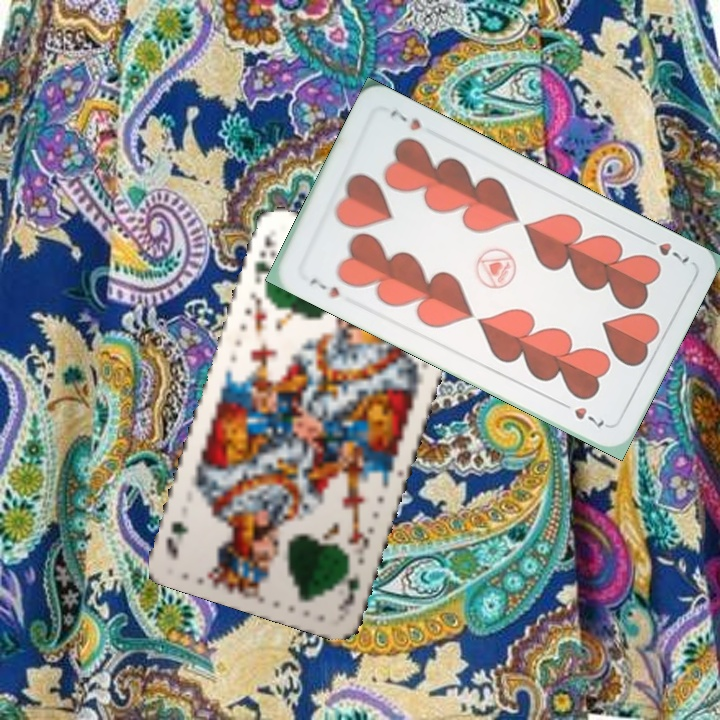GK: (250, 228, 277, 287), (333, 560, 363, 613)
H7: (638, 232, 692, 266), (305, 273, 343, 301)
